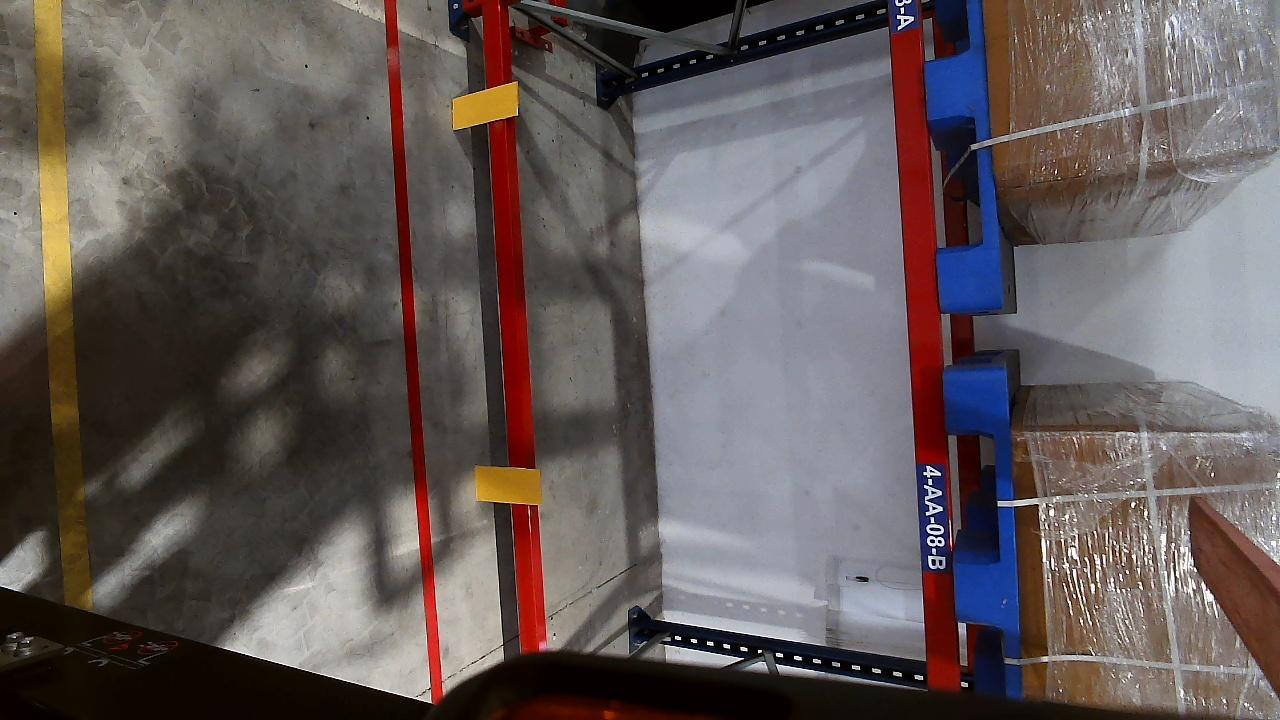h_rack: (477, 0, 546, 652), (891, 0, 955, 689)
orange_strip: (451, 82, 520, 128), (473, 466, 540, 505)
red_line: (372, 0, 452, 700)
small_pallet: (916, 0, 1008, 305), (942, 380, 1027, 690)
yellow_line: (35, 0, 109, 603)
